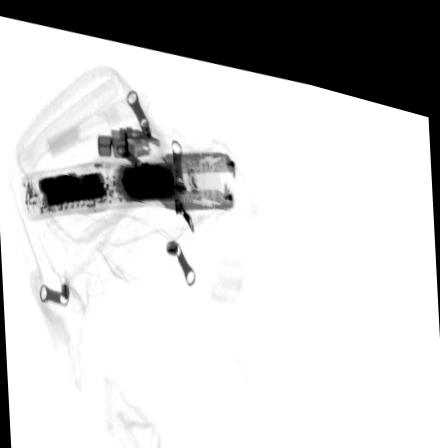Baton: (20, 136, 237, 219)
